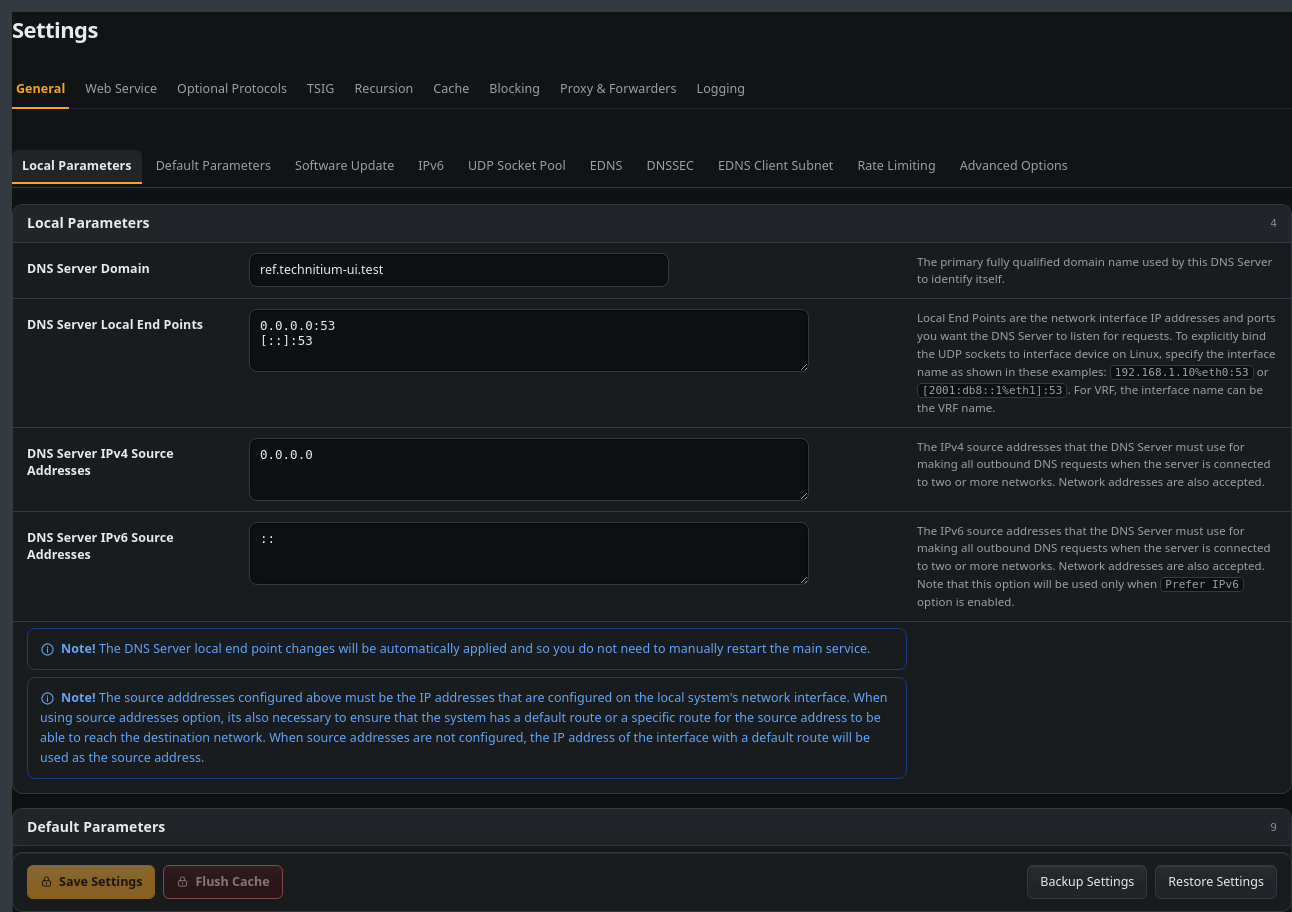
Test: Settings: action bar › the padlock names the permission that is missing
Expected: the button "Backup Settings" is shown, [1027,865,1147,899]
Hover over the element showing "Flush Cache" at coordinates (223, 882), box [164,865,283,899]
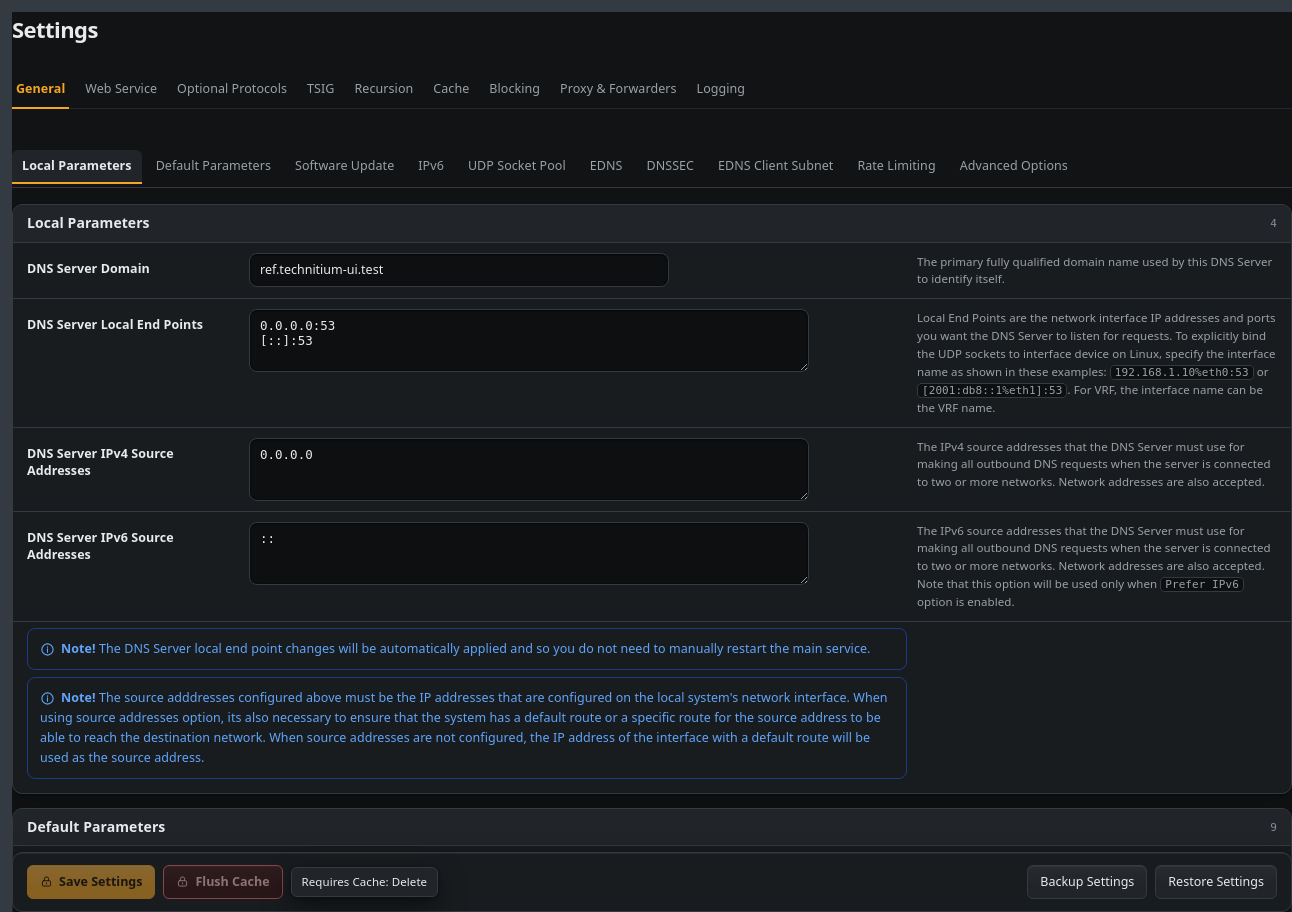
Expected: the tooltip "Requires Cache: Delete" is shown, [291,867,438,897]
